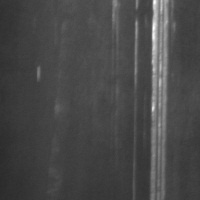scratches: (146, 0, 174, 199)
